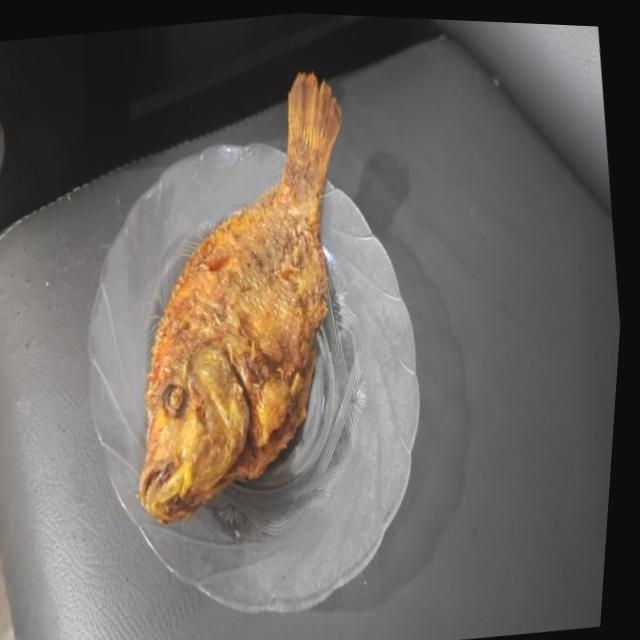ikan_mujair: (138, 72, 341, 524)
